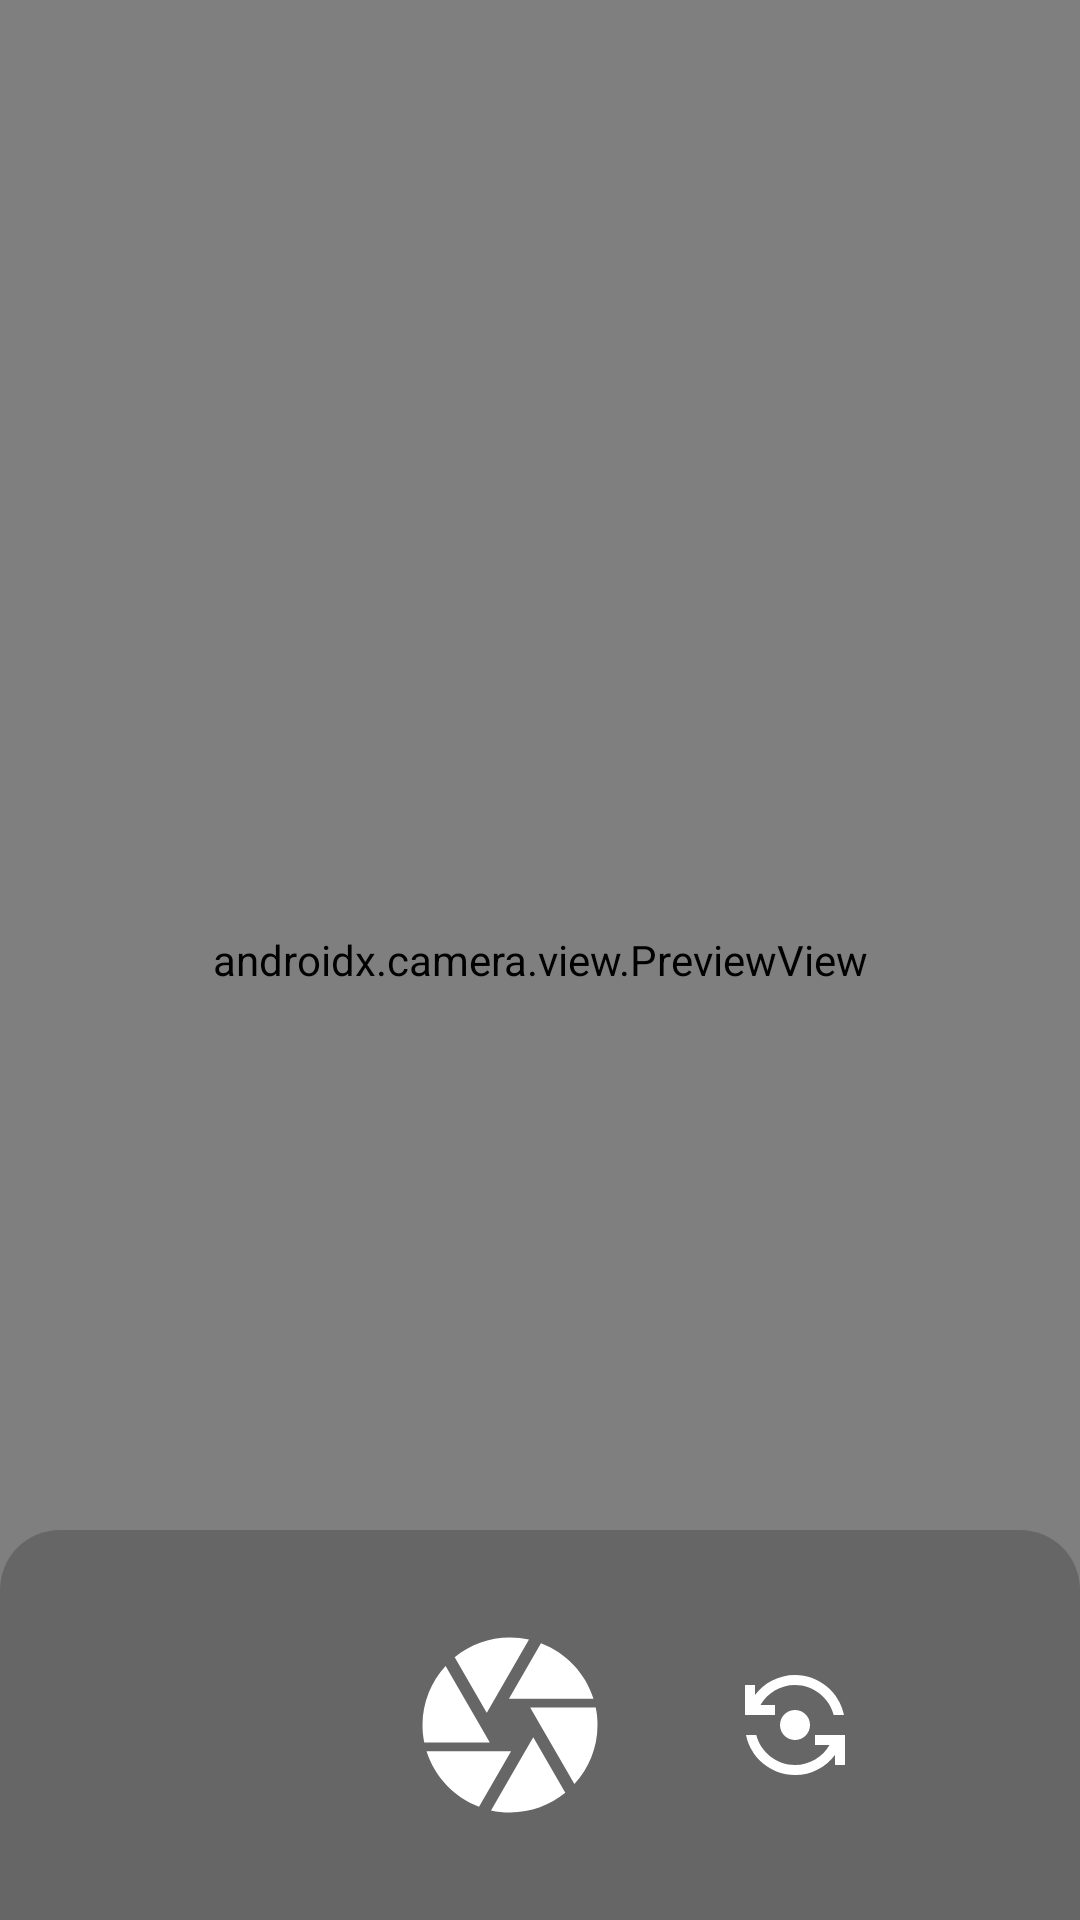

Where icons sit on this 1080 x 1920 app screen, as (x1, y1, x2, y2):
camera capture: (422, 1637, 598, 1813)
flip camera: (745, 1675, 845, 1775)
